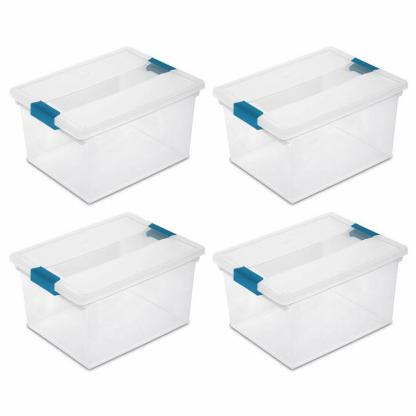plastic_box: (213, 19, 415, 209), (207, 197, 415, 378)
